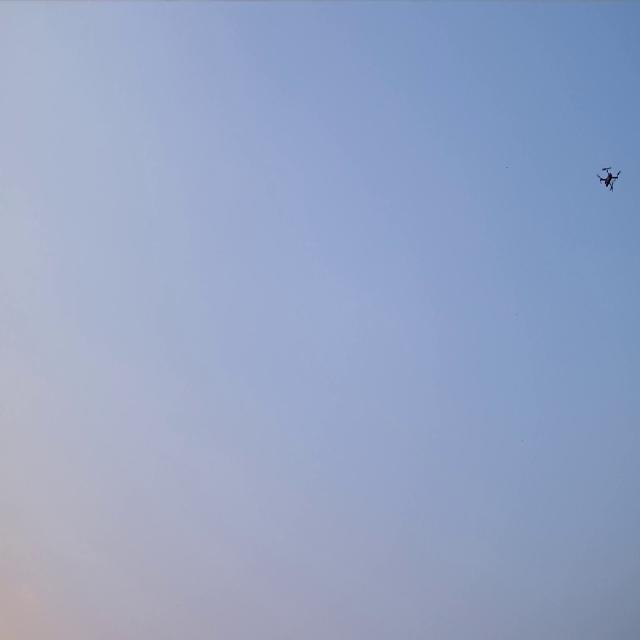UAV: (594, 164, 622, 193)
